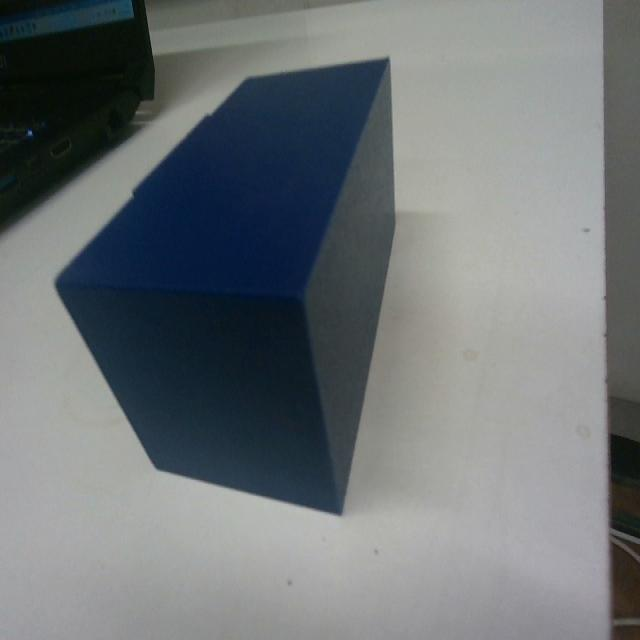Blue Cuboid: (54, 52, 398, 516)
